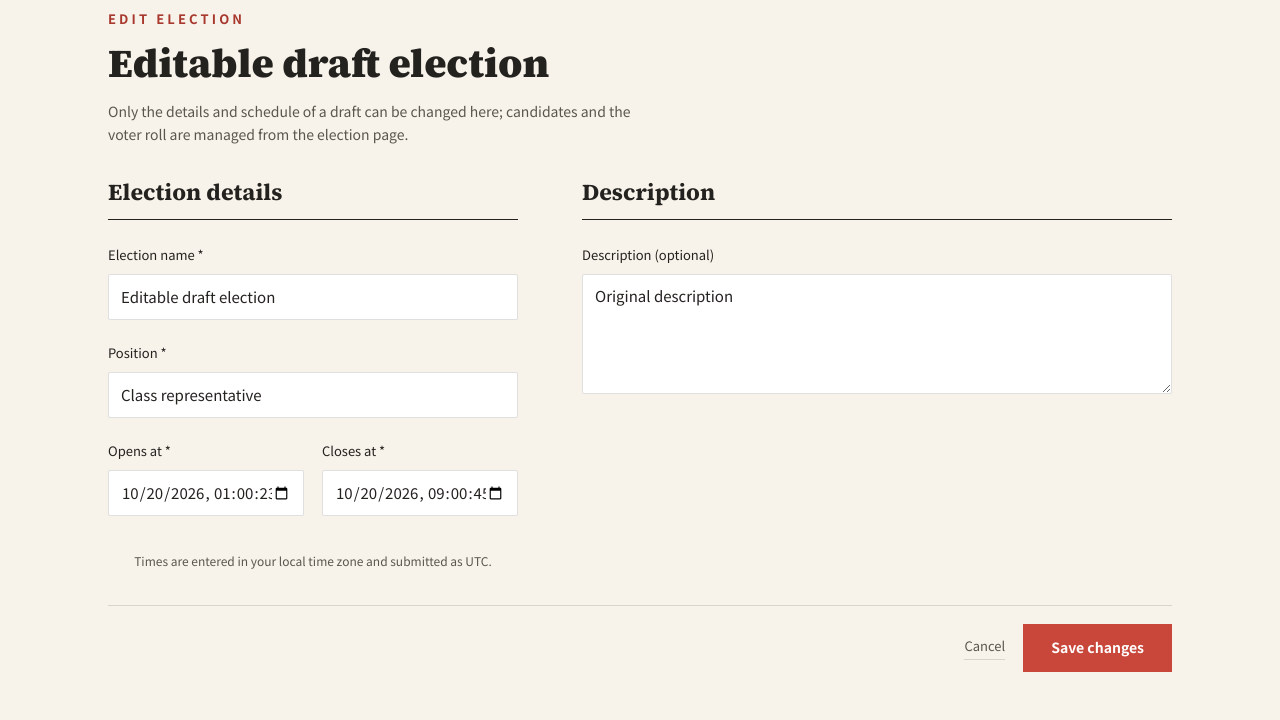
Test: edit draft election › loads original data without requesting candidates or a voter list
(page scrolled)
Expected: the field labelled "Election name *" holds "Editable draft election", [108,274,518,320]
Expected: the text box labelled "Description (optional)" holds "Original description", [582,274,1172,394]
Click the button "Save changes" at (1098, 648), box [1023,624,1172,672]
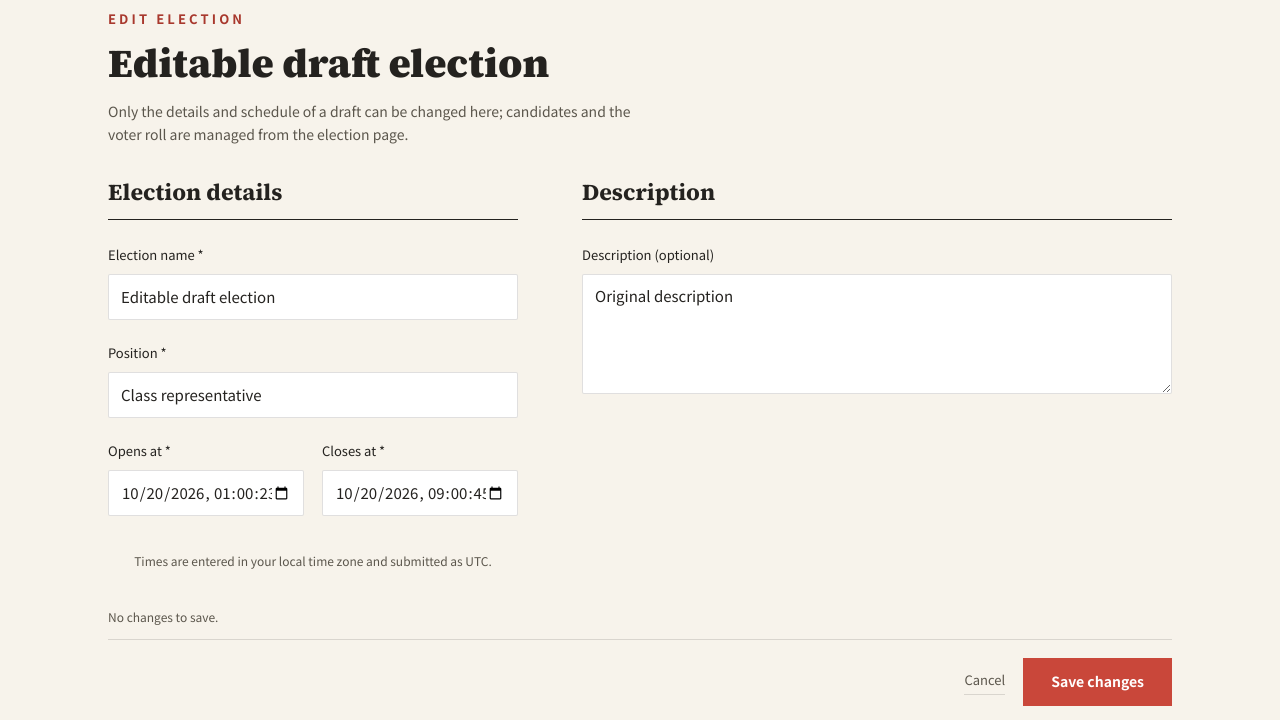
Expected: the text "No changes to save." is shown, [108,608,218,625]
